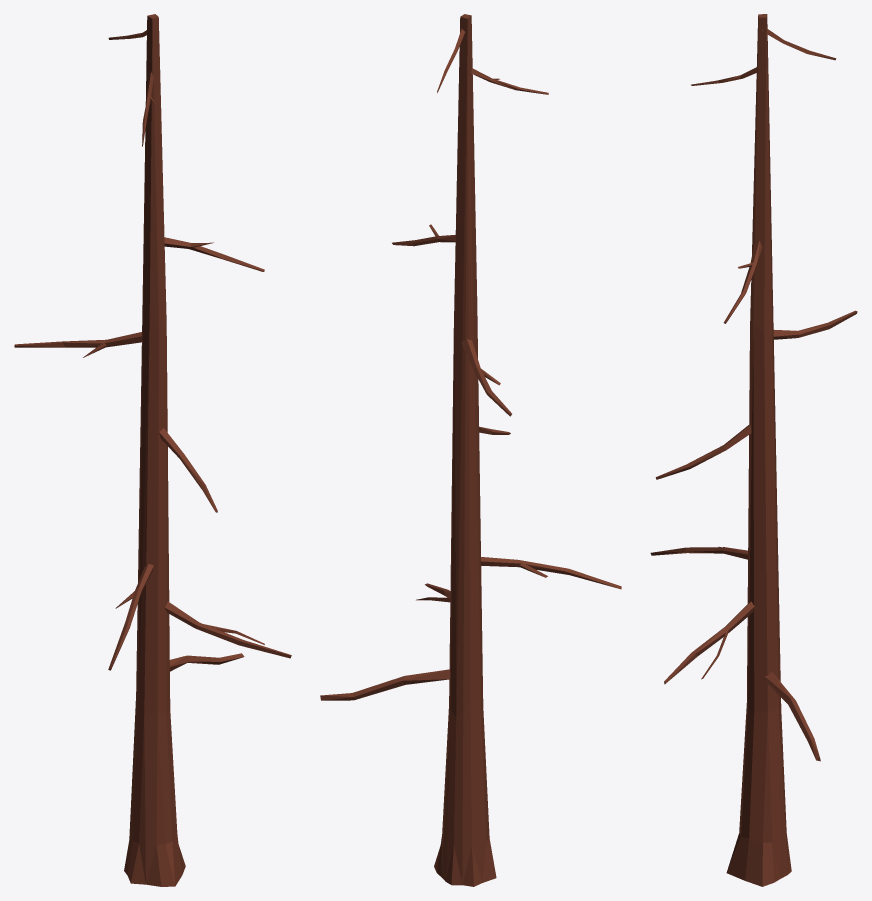
File: pine_dead_type_3_LOD1.fbx
3 renders of one model, left to right at view 1: azimuth 30°, elevation 25°; view 2: azimuth 150°, elevation 25°; view 3: azimuth 270°, elevation 25°, orthographic.
Visible parts, largest first — view 1: pine_trunk.008; view 2: pine_trunk.008; view 3: pine_trunk.008.
Boxes of the visible parts, x1=… form: pine_trunk.008: x1=14, y1=14, x2=291, y2=886; pine_trunk.008: x1=320, y1=14, x2=621, y2=886; pine_trunk.008: x1=650, y1=14, x2=857, y2=886.
Bounding box in the file's own units: 495 × 1855 × 407.
